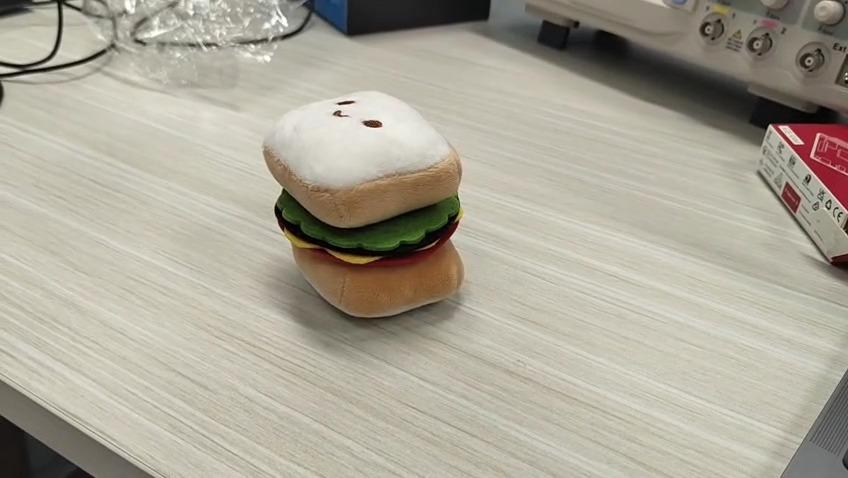objects: (263, 92, 465, 319)
